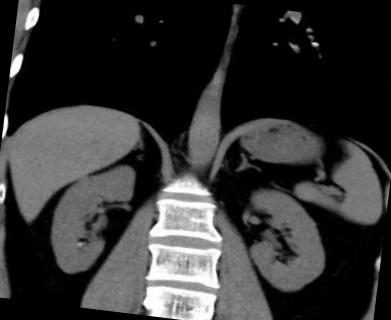Tas_Var: (76, 240, 84, 247)
